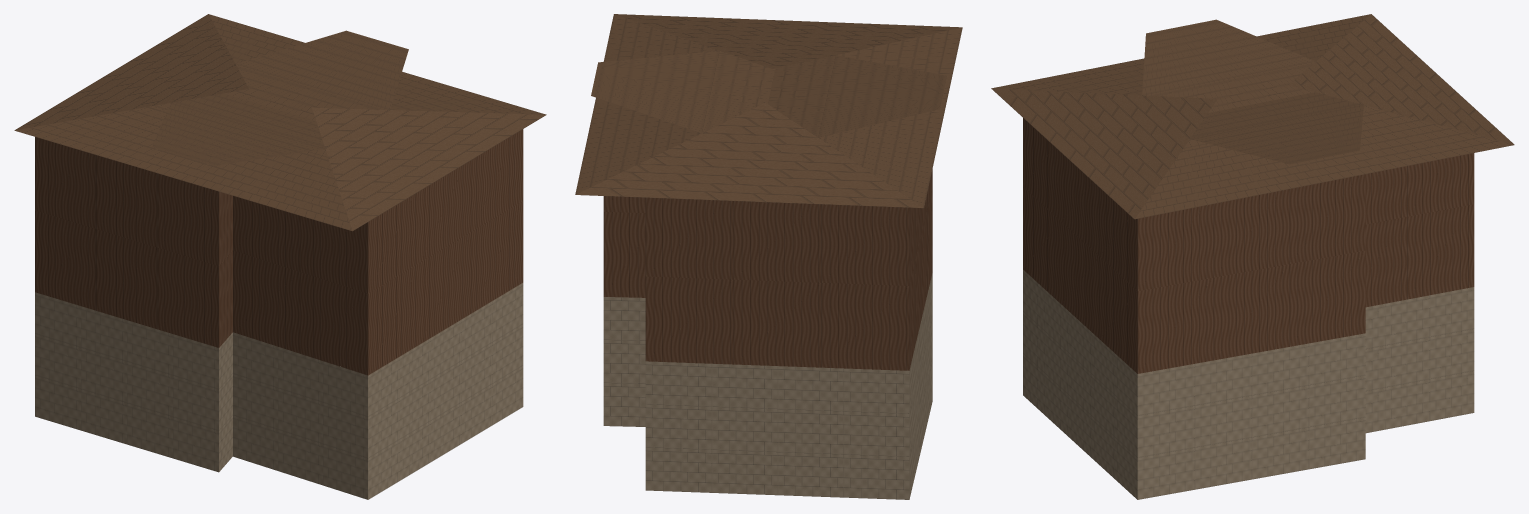
Rendered from bld_c23_32_377.gltf.
The picture shows the model from 3 angles, left to right: view 1: azimuth 30°, elevation 25°; view 2: azimuth 150°, elevation 25°; view 3: azimuth 270°, elevation 25°; orthographic projection. The views are drawn at different scales.
Parts seen in each view (by area): view 1: bld_c23_32_377; view 2: bld_c23_32_377; view 3: bld_c23_32_377.
Boxes of the visible parts, x1=… form: bld_c23_32_377: x1=14, y1=14, x2=546, y2=499; bld_c23_32_377: x1=575, y1=14, x2=962, y2=499; bld_c23_32_377: x1=991, y1=14, x2=1514, y2=499.
Size of the model in its own units: 17.84 by 12.8 by 19.23.
3 materials, 3 textured.
